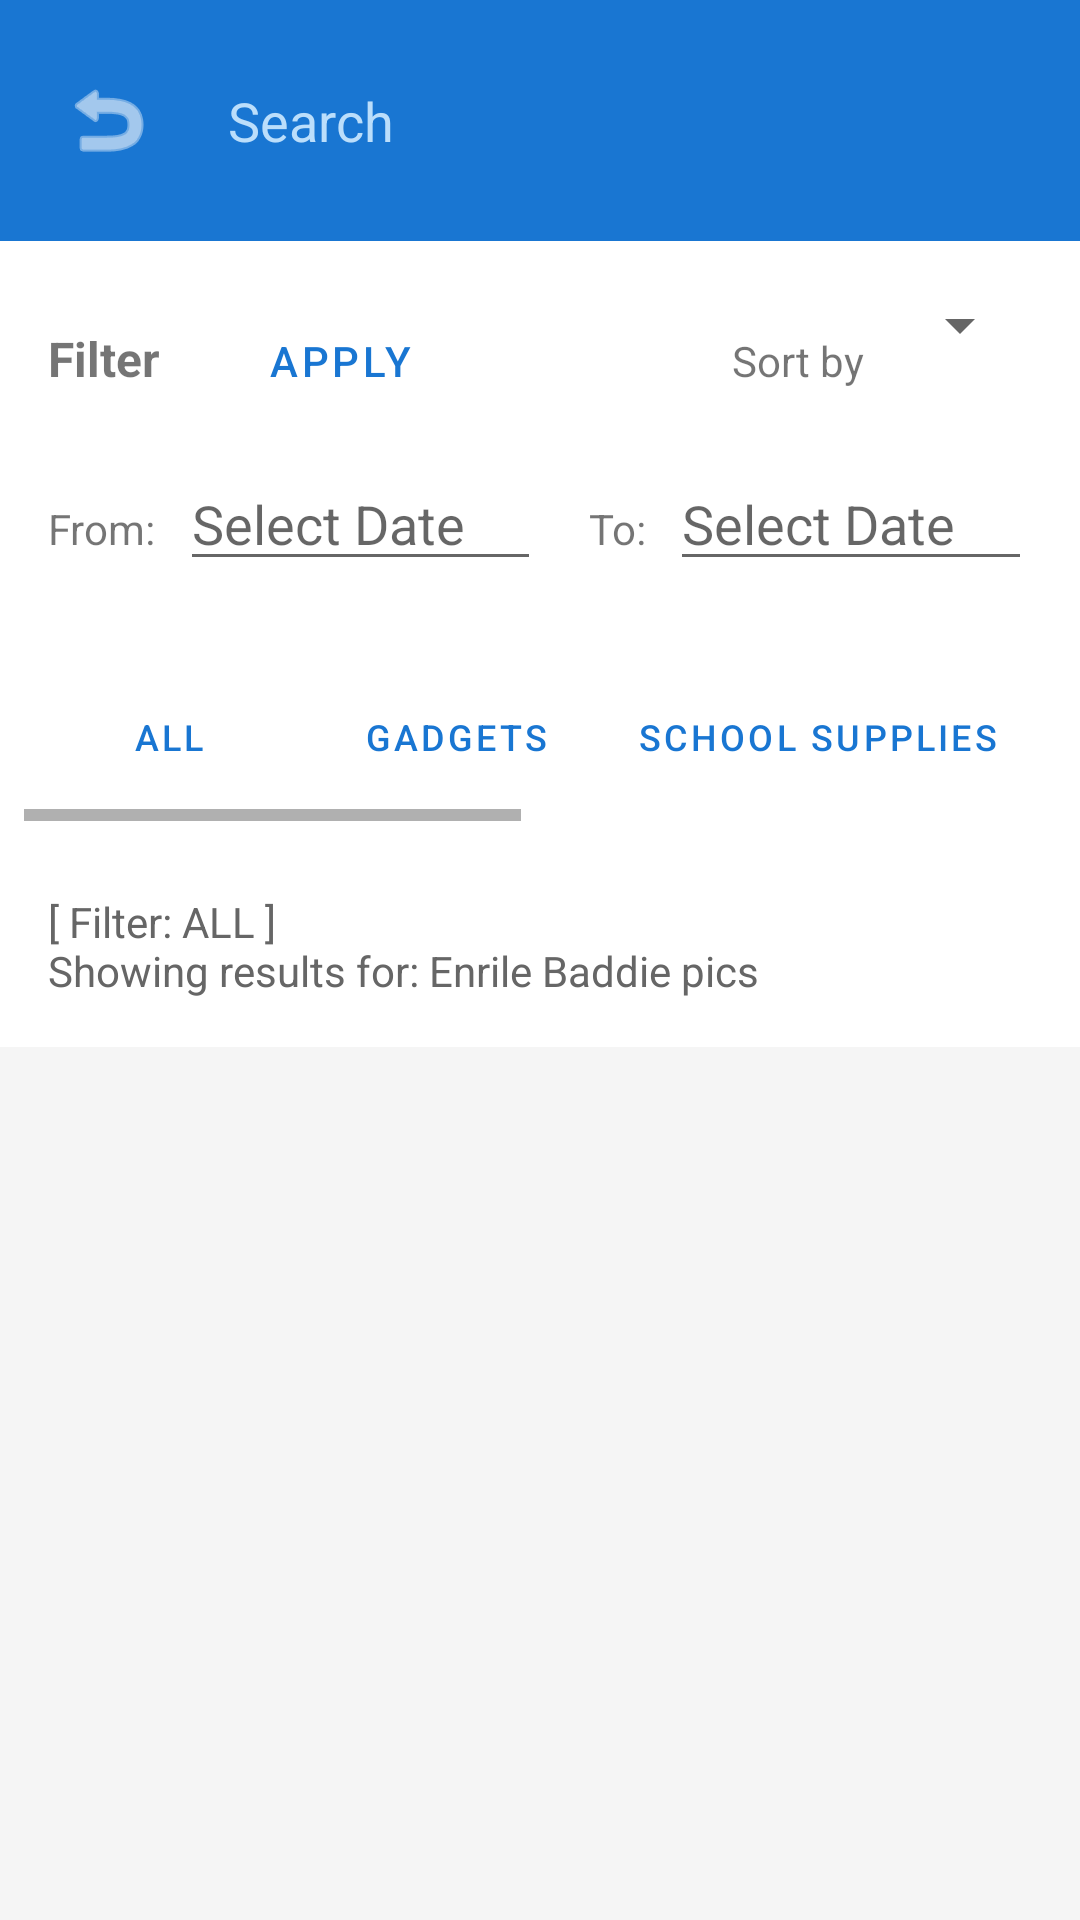

Named icons in this screenshot (1080px x 1920px) and their centers, [x,y]:
Back: [109,120]
